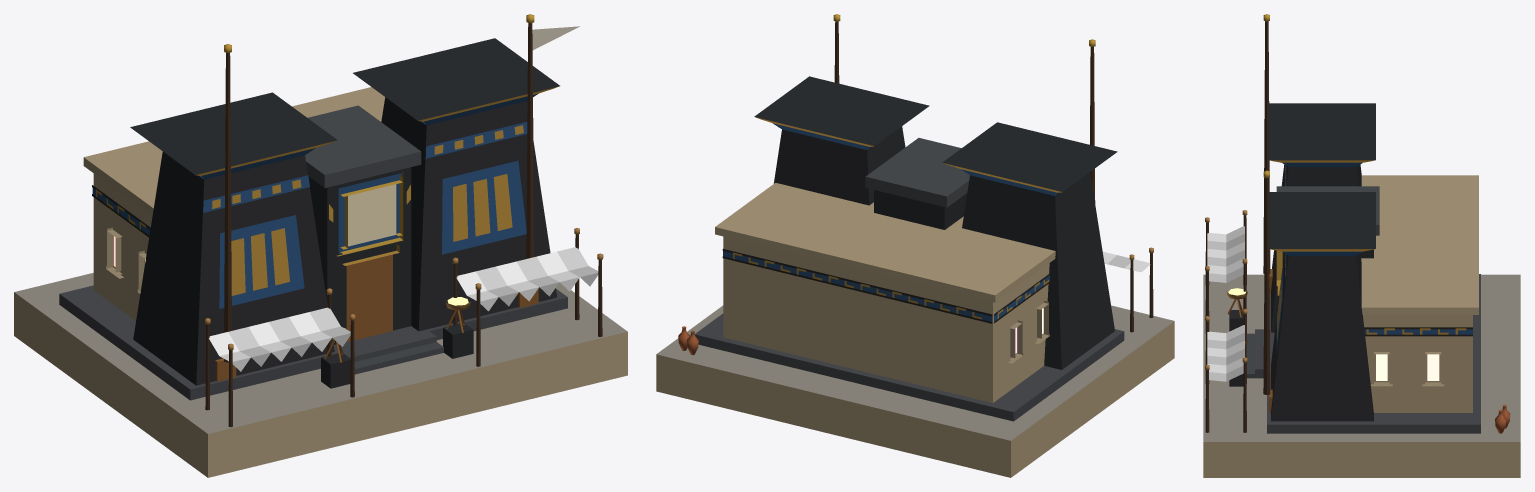
Rendered from harbour-office-solana.glb.
The picture shows the model from 3 angles, left to right: view 1: azimuth 30°, elevation 25°; view 2: azimuth 150°, elevation 25°; view 3: azimuth 270°, elevation 25°; orthographic projection. The views are drawn at different scales.
Visible parts, largest first — view 1: office_body, awning, crest_panel; view 2: office_body; view 3: office_body, awning, office_body_windows.
Boxes of the visible parts, x1,y1,x2,y2 form: office_body: [14, 14, 627, 477]; awning: [209, 247, 598, 371]; crest_panel: [348, 184, 396, 246]; office_body: [656, 14, 1174, 477]; office_body: [1203, 14, 1520, 477]; awning: [1207, 226, 1244, 381]; office_body_windows: [1376, 354, 1439, 380].
Size of the model in its own units: 20 by 17.82 by 16.
